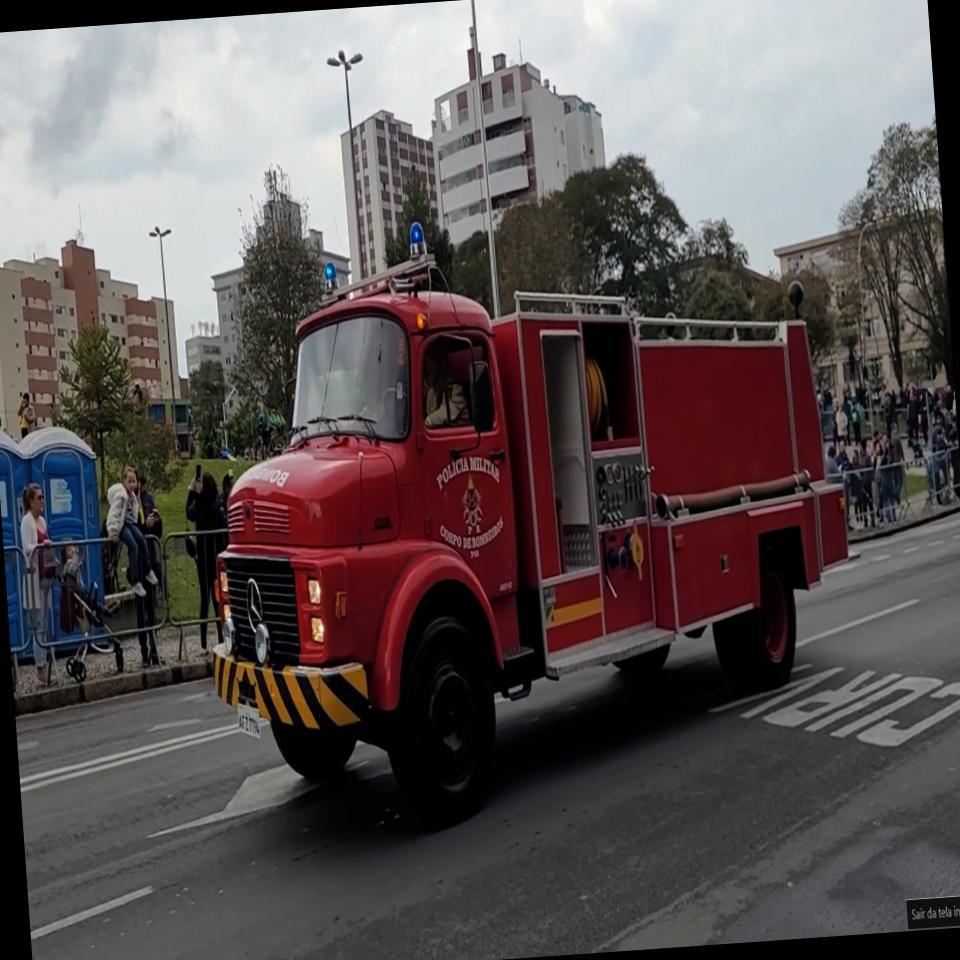viatura: (180, 195, 873, 845)
